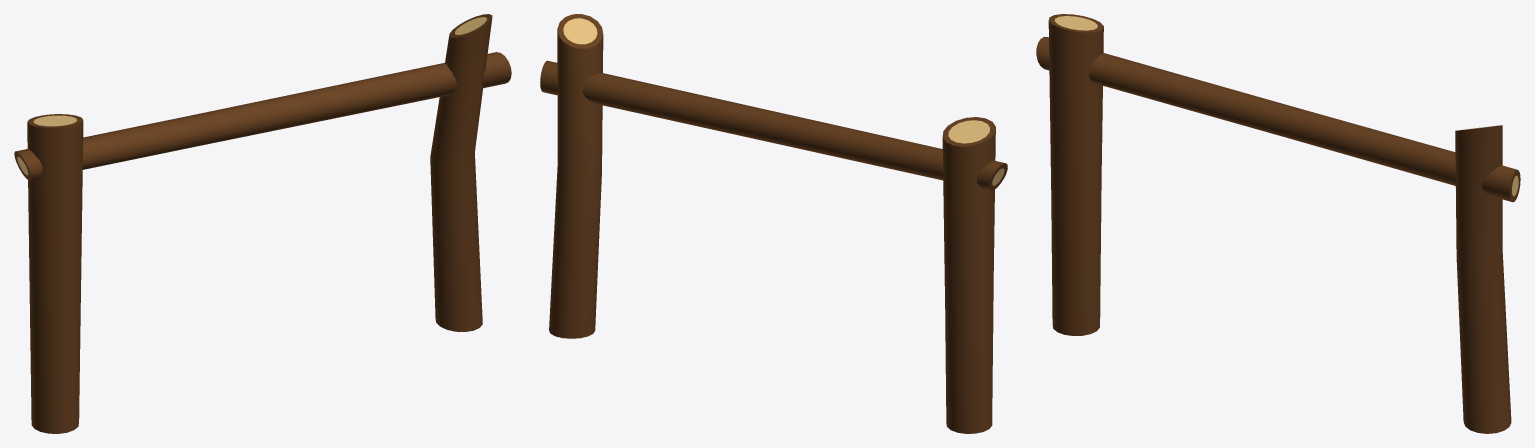
The model's file is fenceCrude2.fbx.
3 renders of one model, left to right at view 1: azimuth 30°, elevation 25°; view 2: azimuth 150°, elevation 25°; view 3: azimuth 330°, elevation 25°, orthographic. The views are drawn at different scales.
Visible parts, largest first — view 1: Crude Fence 2; view 2: Crude Fence 2; view 3: Crude Fence 2.
Boxes of the visible parts, left/top/right/bottom form: Crude Fence 2: left=14, top=14, right=511, bottom=433; Crude Fence 2: left=540, top=14, right=1007, bottom=433; Crude Fence 2: left=1036, top=14, right=1520, bottom=433.
Bounding box in the file's own units: 160 × 19.2 × 99.45.
